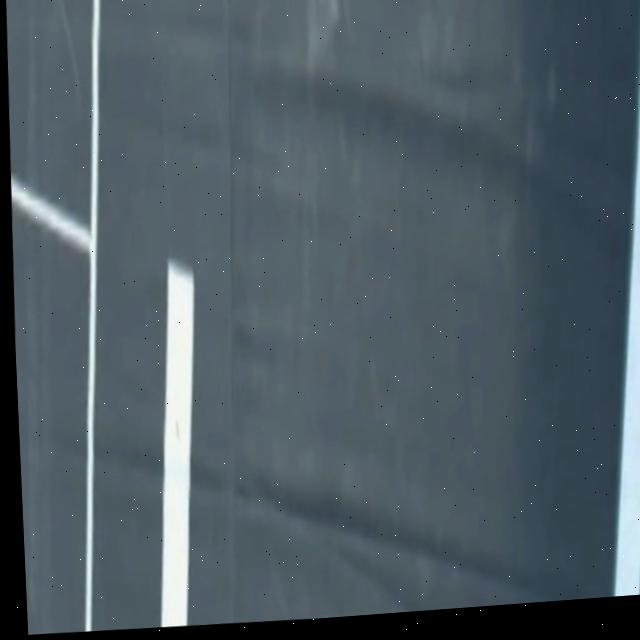center: (162, 261, 195, 627)
left: (614, 83, 640, 597)
